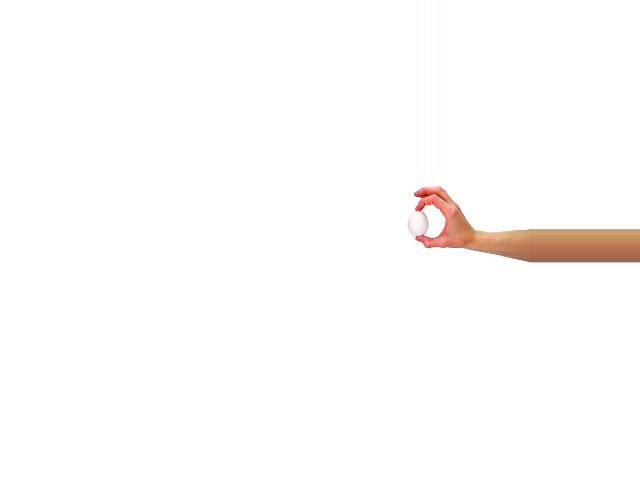egg: (407, 210, 429, 236)
